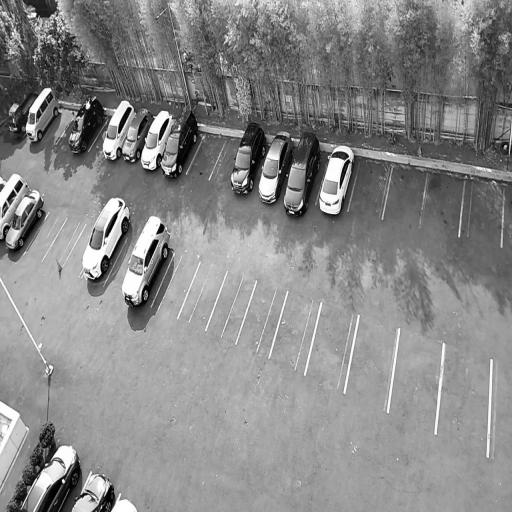Car: (118, 209, 175, 310), (17, 433, 88, 512), (76, 192, 136, 284), (278, 125, 326, 219), (226, 117, 274, 198), (313, 137, 359, 221), (156, 105, 204, 182), (254, 124, 298, 208), (2, 185, 49, 255), (65, 91, 110, 159), (98, 97, 139, 164), (0, 168, 34, 244), (138, 105, 176, 172), (22, 82, 63, 144), (69, 463, 118, 512), (119, 104, 157, 166), (5, 87, 39, 138), (110, 490, 147, 511)
Space Available: (436, 345, 492, 456), (388, 327, 442, 431), (345, 315, 400, 412), (305, 301, 359, 391), (269, 290, 322, 372), (236, 280, 288, 356), (205, 272, 257, 343), (151, 253, 201, 319), (177, 263, 227, 329), (459, 179, 505, 245), (347, 157, 393, 220), (382, 163, 428, 226), (420, 171, 465, 235), (489, 359, 512, 460), (24, 210, 68, 261), (42, 217, 86, 268), (186, 133, 228, 179), (103, 237, 136, 291), (61, 225, 94, 273), (209, 138, 241, 182), (43, 109, 75, 143), (88, 116, 112, 152), (502, 183, 512, 248), (57, 115, 77, 147)
